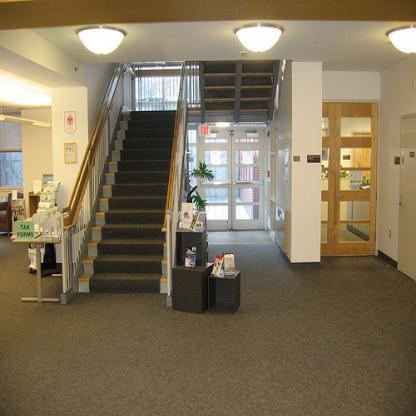stairs: (89, 238, 158, 316)
